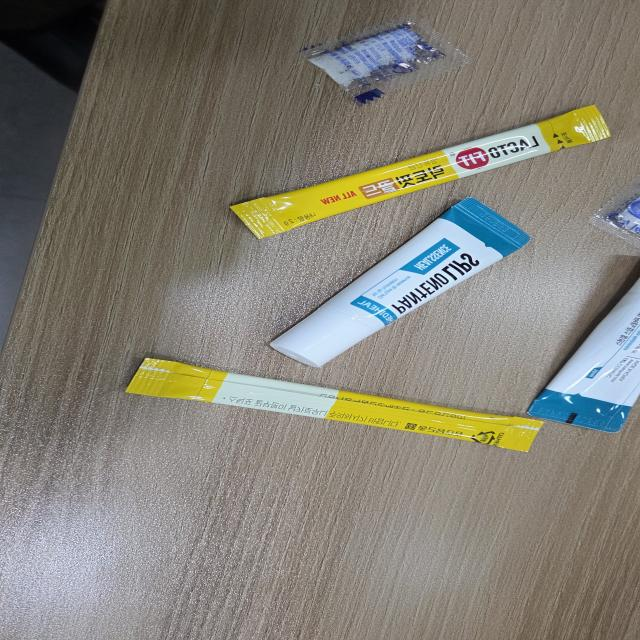lacto: (224, 103, 612, 246), (116, 357, 544, 452)
lib: (266, 197, 532, 366), (524, 267, 640, 432)
salt: (291, 14, 472, 103), (589, 184, 640, 257)
